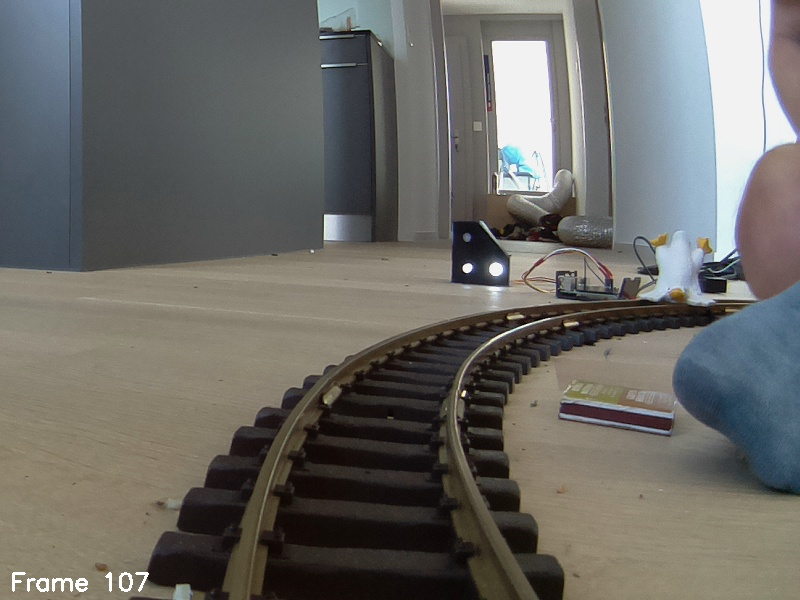Ente: (635, 229, 716, 311)
Halt: (454, 218, 510, 288)
